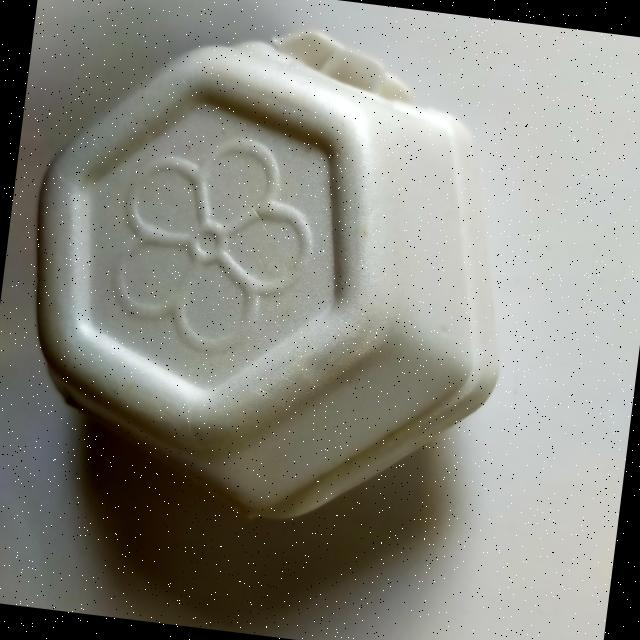styrofoam: (1, 0, 539, 548)
